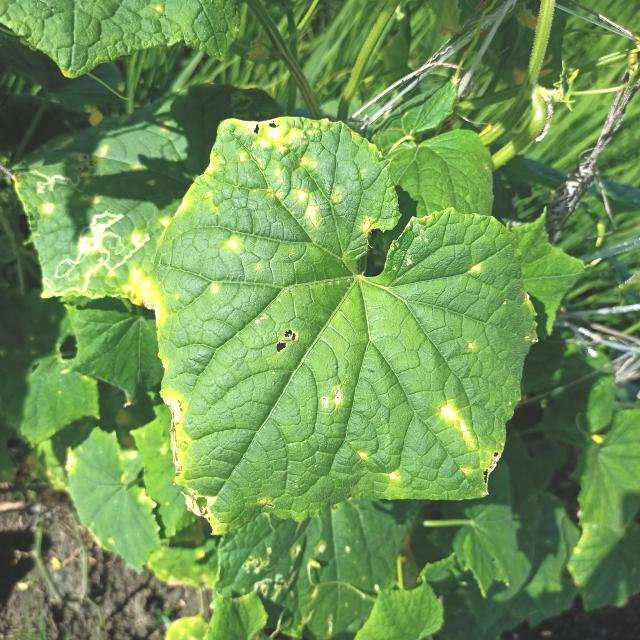disease_cucumber: (236, 114, 324, 230), (433, 403, 497, 479), (153, 393, 191, 473), (123, 270, 168, 328), (316, 385, 348, 415), (360, 215, 376, 234), (207, 282, 220, 297), (227, 240, 241, 253), (465, 338, 476, 354), (470, 263, 482, 275), (390, 470, 404, 480)
